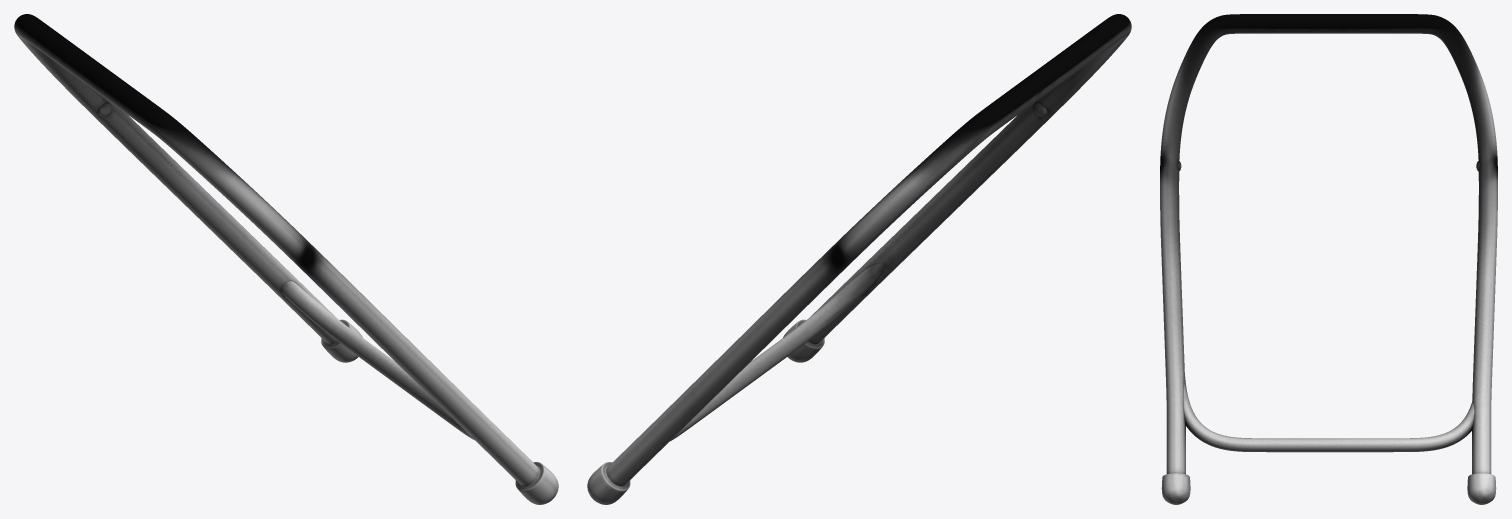
File: Silla_patas.obj
The picture shows the model from 3 angles, left to right: view 1: azimuth 30°, elevation 25°; view 2: azimuth 150°, elevation 25°; view 3: azimuth 270°, elevation 25°; orthographic projection. The views are drawn at different scales.
Visible parts, largest first — view 1: Silla_PatasTraseras; view 2: Silla_PatasTraseras; view 3: Silla_PatasTraseras.
Part boxes in pixels (bbox=[...]): Silla_PatasTraseras: bbox=[14, 14, 558, 504]; Silla_PatasTraseras: bbox=[587, 14, 1131, 504]; Silla_PatasTraseras: bbox=[1160, 14, 1497, 504].
Bounding box in the file's own units: 0.7273 × 0.84 × 0.7236.
1 material, 1 textured.
